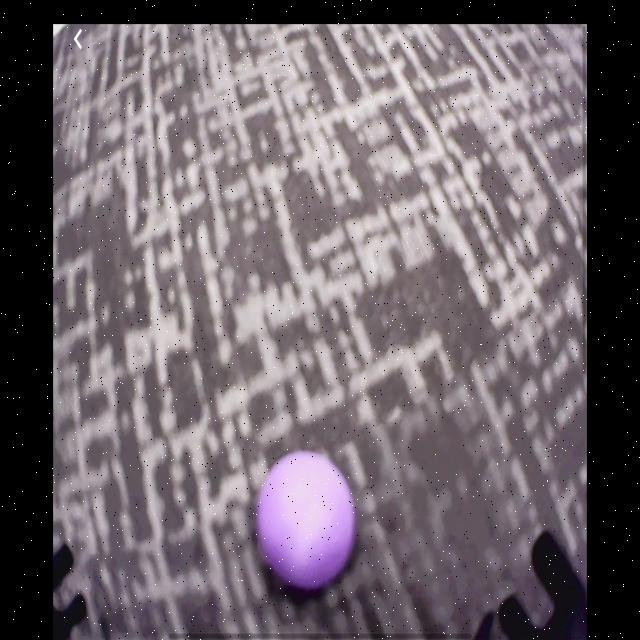ball: (258, 451, 359, 596)
